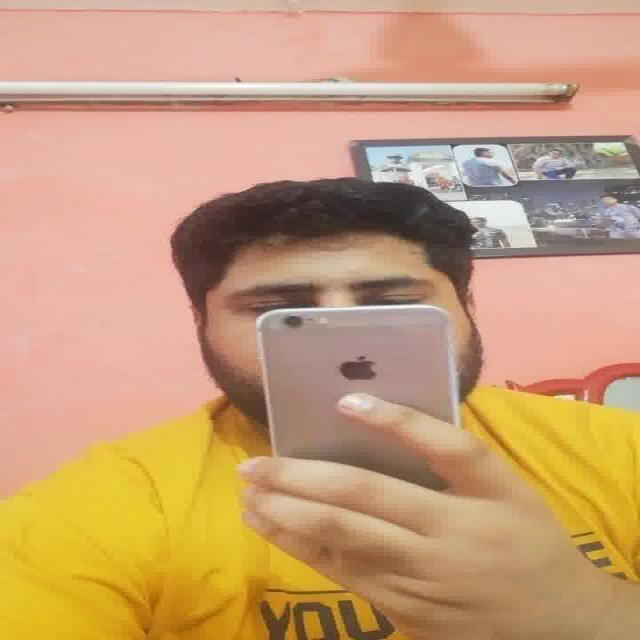Phone: (253, 303, 462, 463)
